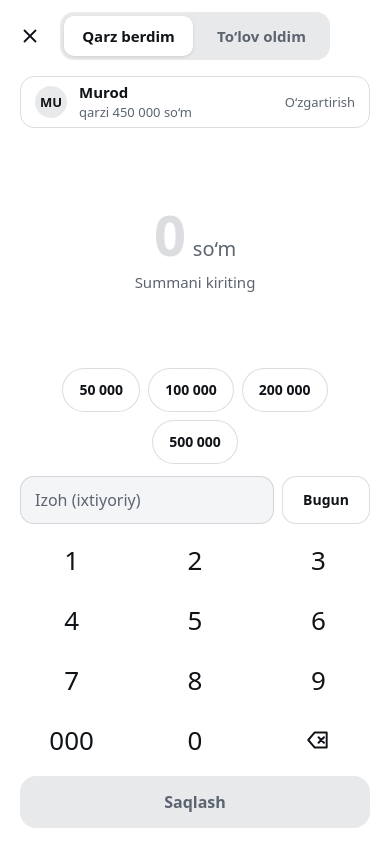
AddEntry › “000” tugmasi, boshidagi nollar va o‘chirish tugmasi
expect the element with test id "amount" is shown: met, box [154, 204, 236, 264]
Click the button "0". click: (195, 740)
box: [135, 712, 255, 768]
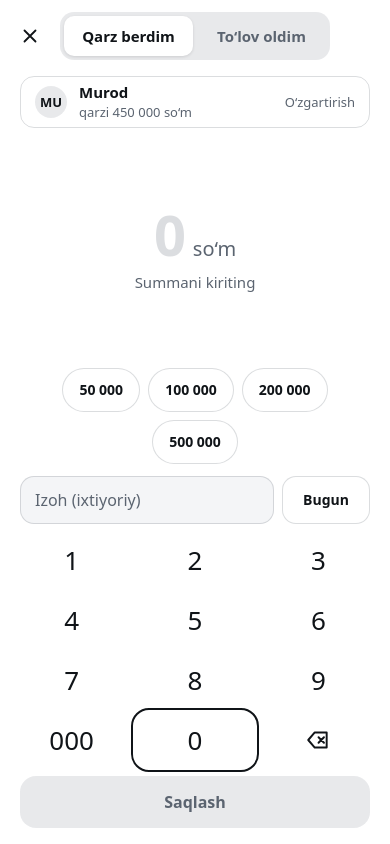
expect the element with test id "amount" shows "0": met, box [154, 196, 185, 272]
expect the element with test id "amount" is shown: met, box [154, 204, 236, 264]
Click the button "5". click: (195, 620)
box: [135, 592, 255, 648]
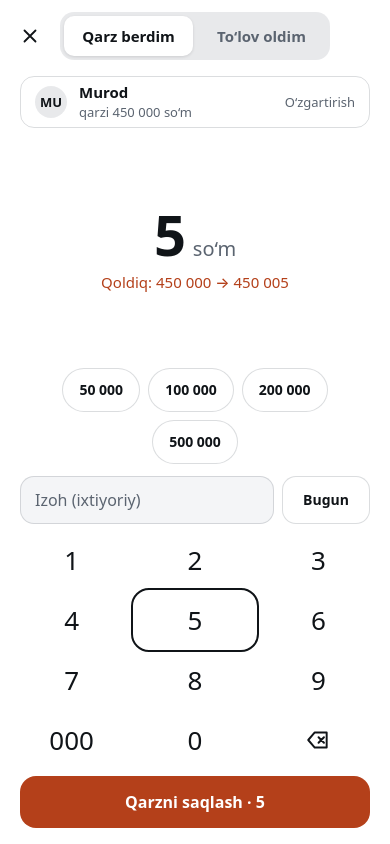
Click the button "000". click: (72, 740)
box: [12, 712, 131, 768]
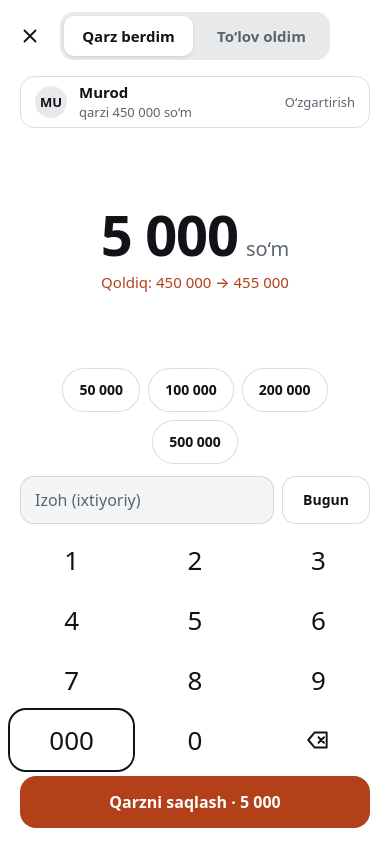
expect the element with test id "amount" shows "5 000": met, box [101, 196, 238, 272]
Click the button named "Oxirgi raqamni o‘chirish". click: (318, 740)
box: [259, 712, 378, 768]
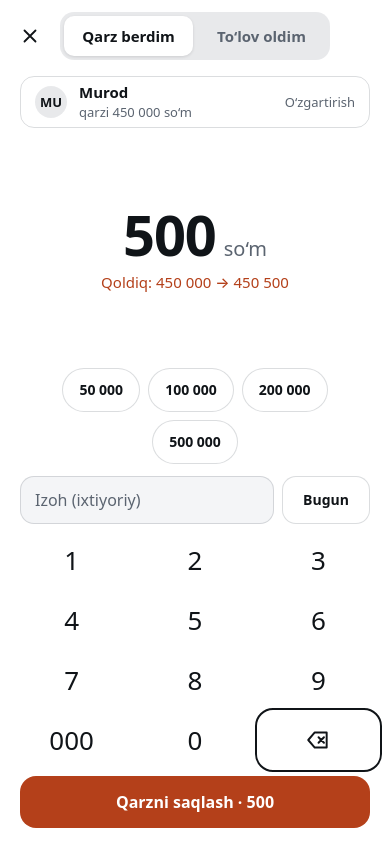
expect the element with test id "amount" shows "500": met, box [123, 196, 216, 272]
